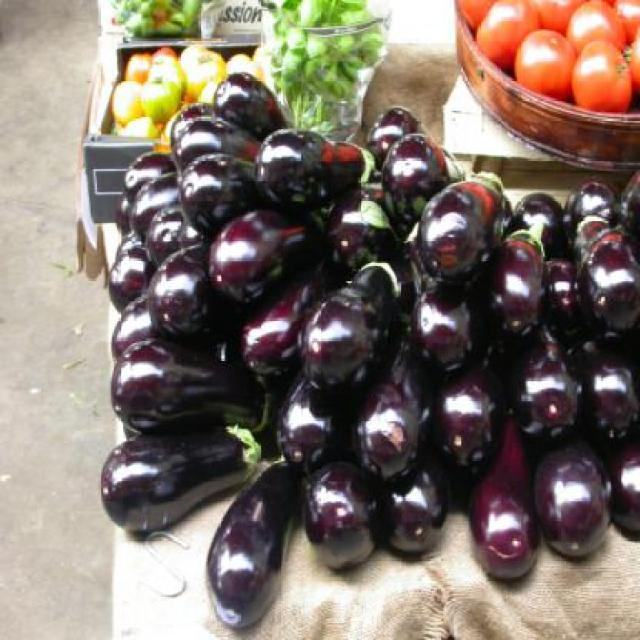Tomato: (452, 0, 640, 114), (576, 14, 629, 97)
